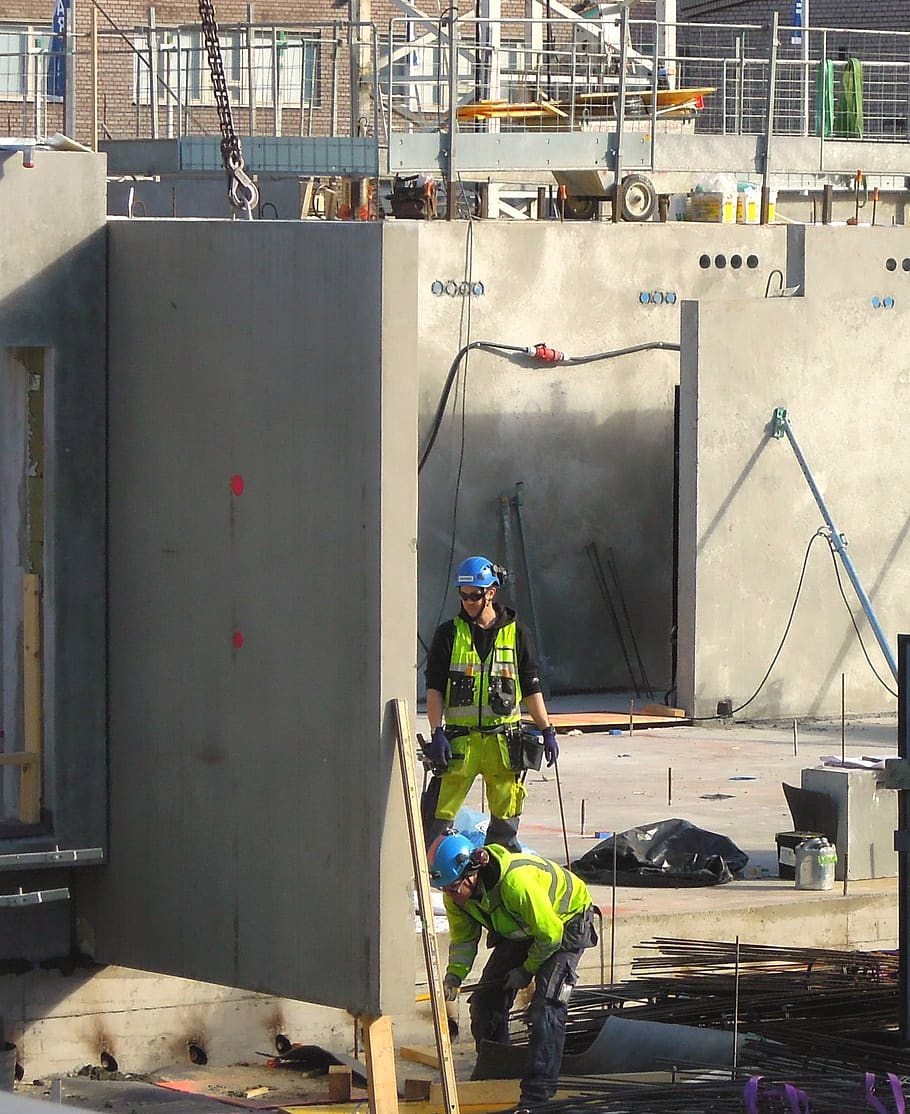Hard Hat: (430, 833, 488, 908), (452, 555, 504, 621)
Person: (428, 830, 598, 1108), (421, 555, 558, 863)
Vest: (437, 847, 594, 941), (443, 586, 522, 721)
